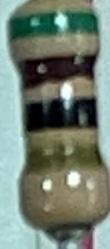Black: (25, 94, 99, 137)
Brown: (13, 53, 99, 92)
Green: (8, 10, 101, 47)
Side-Gold: (20, 141, 106, 180)
